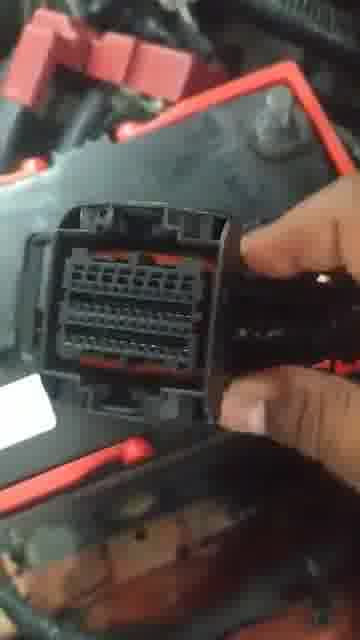connector: (22, 200, 237, 427)
